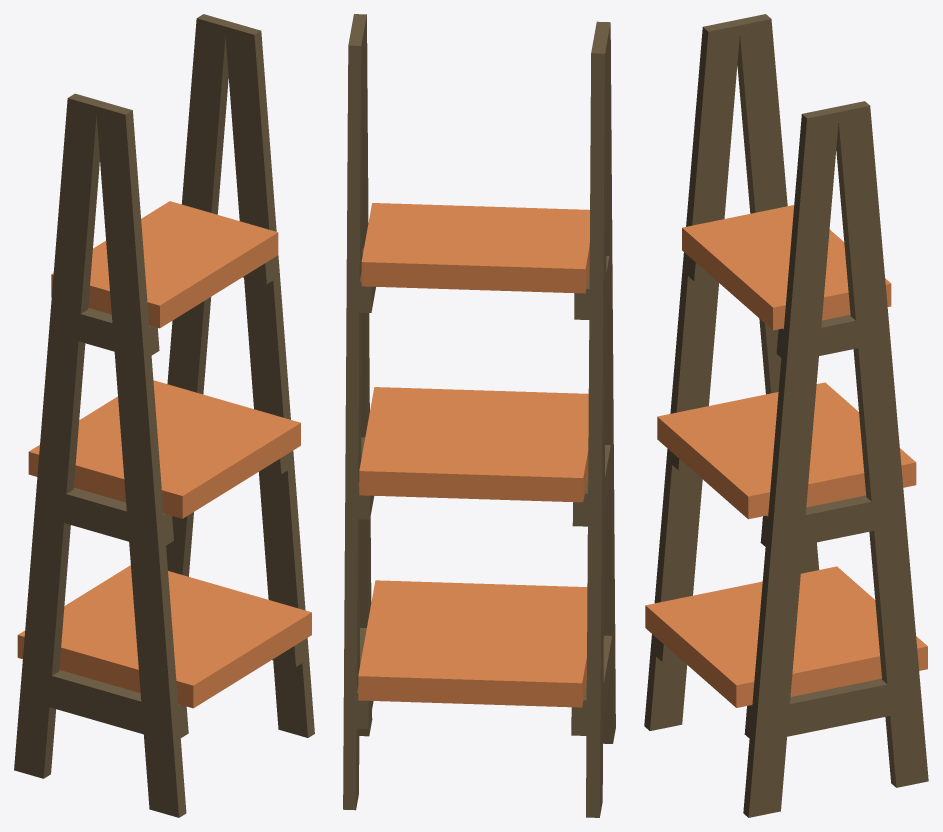
Rendered from shelf_triangle_orange.fbx.
3 views of the same model, side by side, from view 1: azimuth 30°, elevation 25°; view 2: azimuth 150°, elevation 25°; view 3: azimuth 270°, elevation 25° (orthographic). The views are drawn at different scales.
Parts seen in each view (by area): view 1: shelf_triangle_orange; view 2: shelf_triangle_orange; view 3: shelf_triangle_orange.
Part boxes in pixels (<box>): shelf_triangle_orange: <box>14,14,314,817</box>; shelf_triangle_orange: <box>343,14,615,817</box>; shelf_triangle_orange: <box>644,14,928,817</box>.
Bounding box in the file's own units: 57.95 × 145 × 54.29.
Materials: 1 (1 with a texture image).
